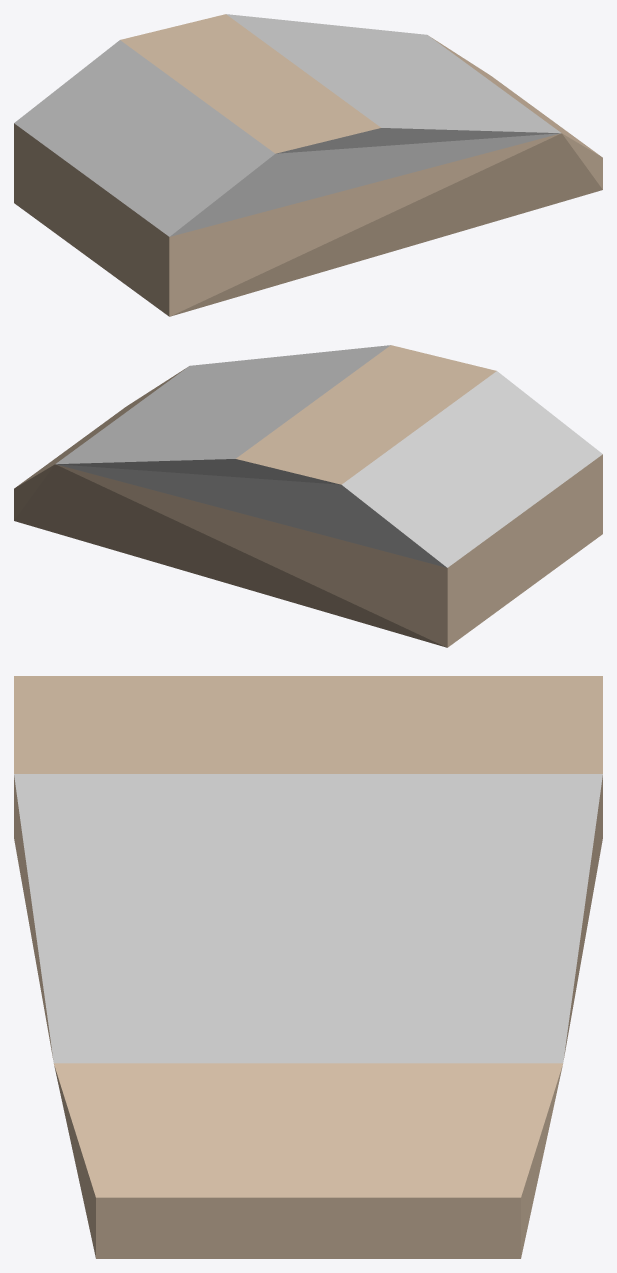
Rendered from sportcar2.obj.
3 views of the same model, one above another, from view 1: azimuth 30°, elevation 25°; view 2: azimuth 150°, elevation 25°; view 3: azimuth 270°, elevation 25° (orthographic). The views are drawn at different scales.
Visible parts, largest first — view 1: Cube1_default, Cube1_Cube1_auv; view 2: Cube1_default, Cube1_Cube1_auv; view 3: Cube1_Cube1_auv, Cube1_default.
Boxes of the visible parts, x1,y1,x2,y2 form: Cube1_default: (14, 14, 602, 316); Cube1_Cube1_auv: (14, 14, 561, 236); Cube1_default: (14, 345, 602, 647); Cube1_Cube1_auv: (55, 345, 602, 567); Cube1_Cube1_auv: (14, 774, 602, 1063); Cube1_default: (14, 676, 602, 1258).
Bounding box in the file's own units: 3.38 × 0.9744 × 2.
